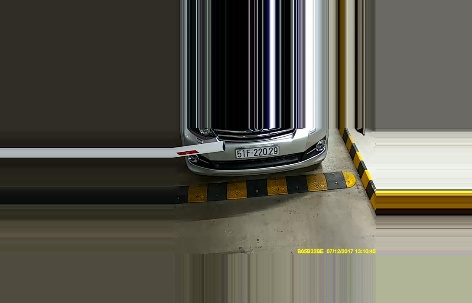plate: (230, 145, 284, 158)
